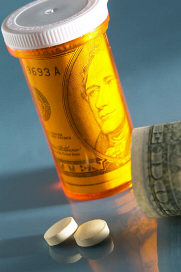pill bottle: (2, 1, 134, 200)
